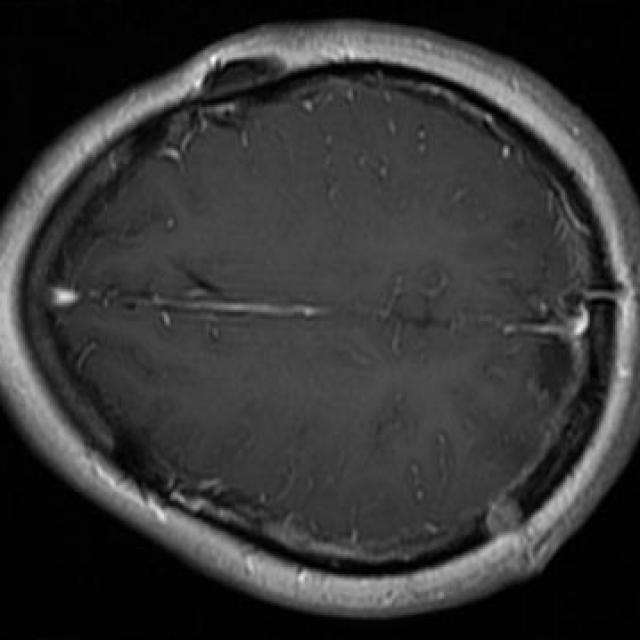glioma: (537, 341, 578, 401)
